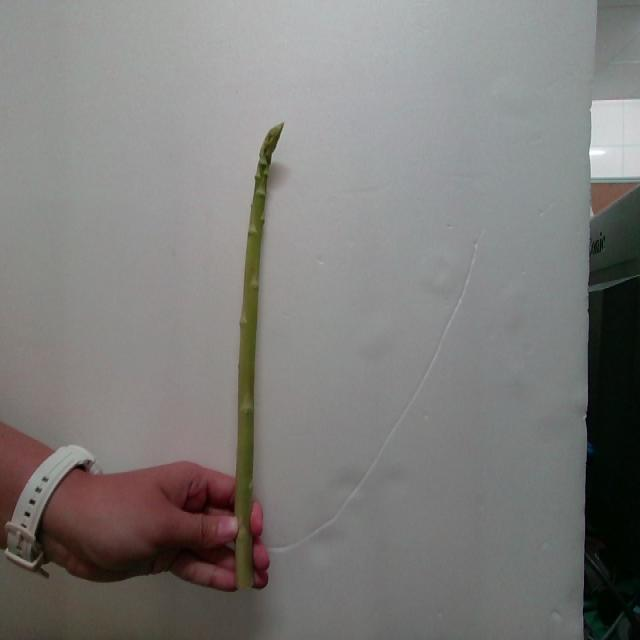aspargus: (235, 124, 285, 592)
